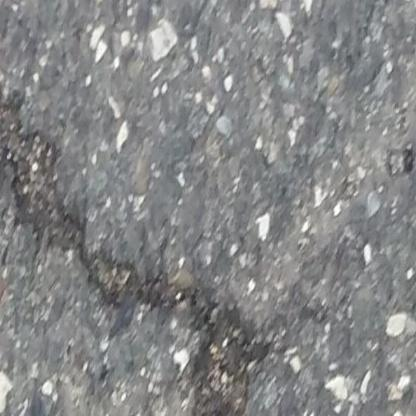Cracks: (0, 76, 274, 416)
